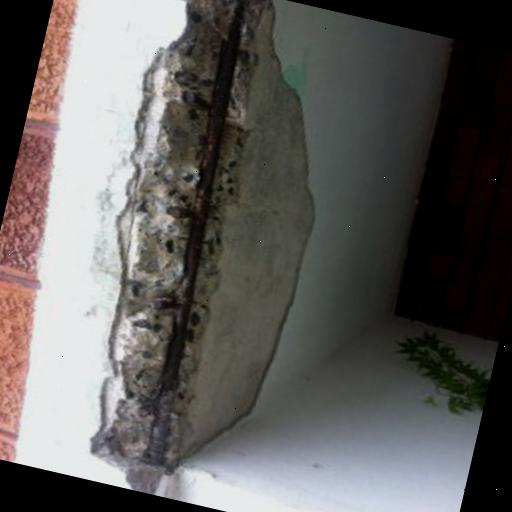spalling: (83, 0, 319, 498)
